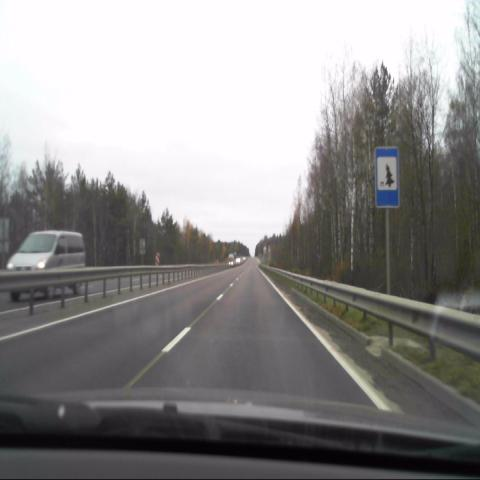7_11: (374, 147, 398, 208)
